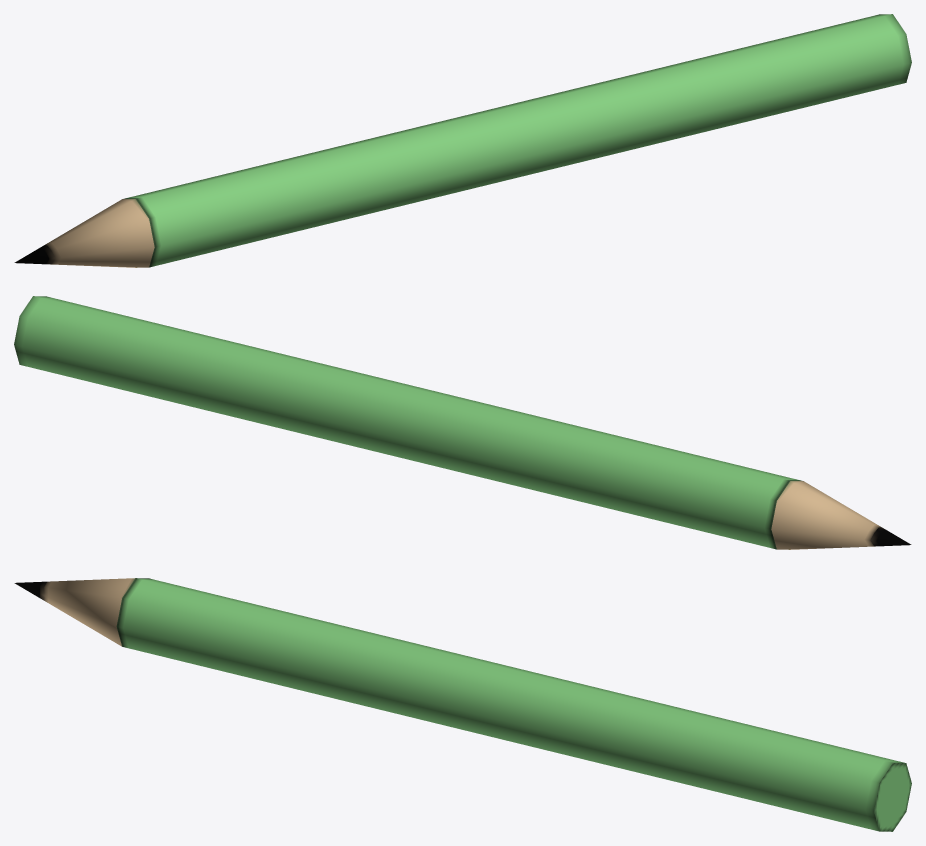
Rendered from pencil2.fbx.
The picture shows the model from 3 angles, top to bottom: view 1: azimuth 30°, elevation 25°; view 2: azimuth 150°, elevation 25°; view 3: azimuth 330°, elevation 25°; orthographic projection.
Visible parts, largest first — view 1: polySurface431; view 2: polySurface431; view 3: polySurface431.
Part boxes in pixels (x1,y1,x2,y2): polySurface431: (14, 14, 911, 267); polySurface431: (14, 296, 911, 549); polySurface431: (14, 578, 911, 831).
Bounding box in the file's own units: 0.1847 × 0.0138 × 0.0138.
